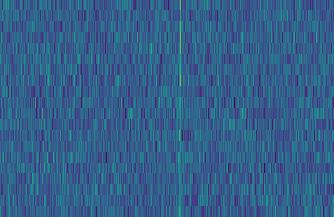signal: (174, 0, 184, 217)
